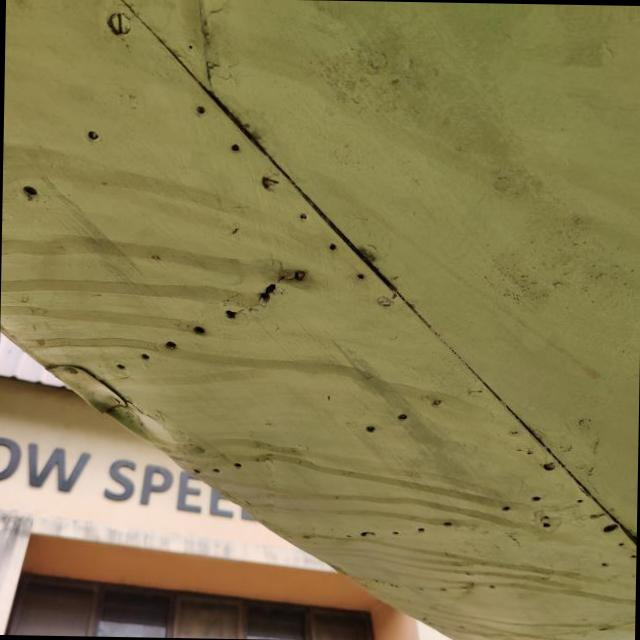Crack: (258, 283, 277, 303)
